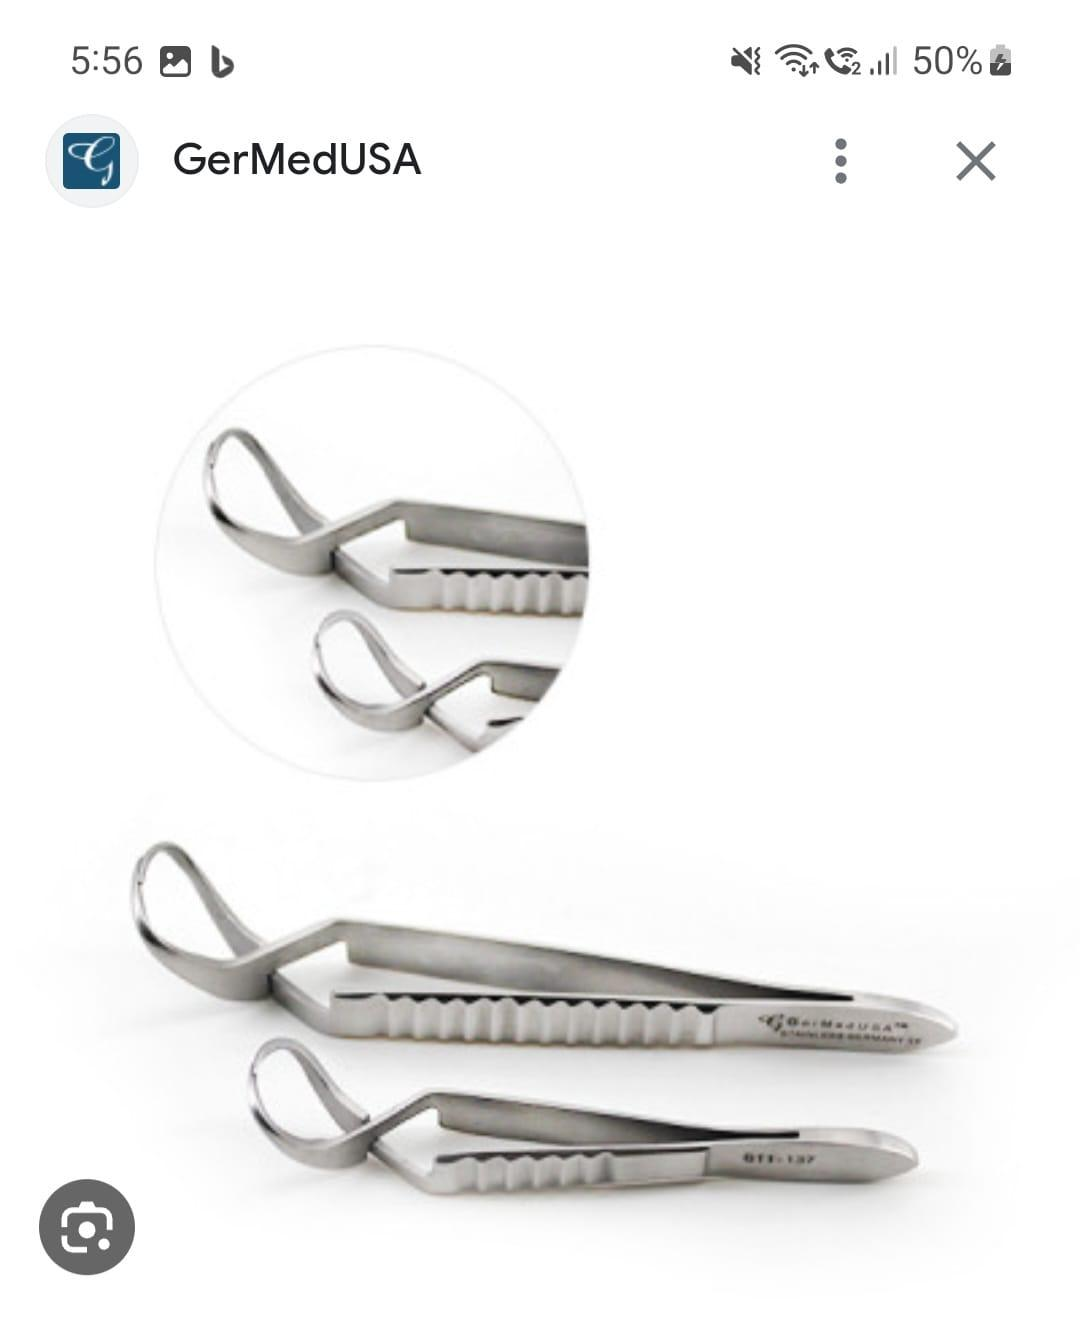Jones Towel Clamp: (104, 820, 962, 1074), (233, 1028, 942, 1196)
